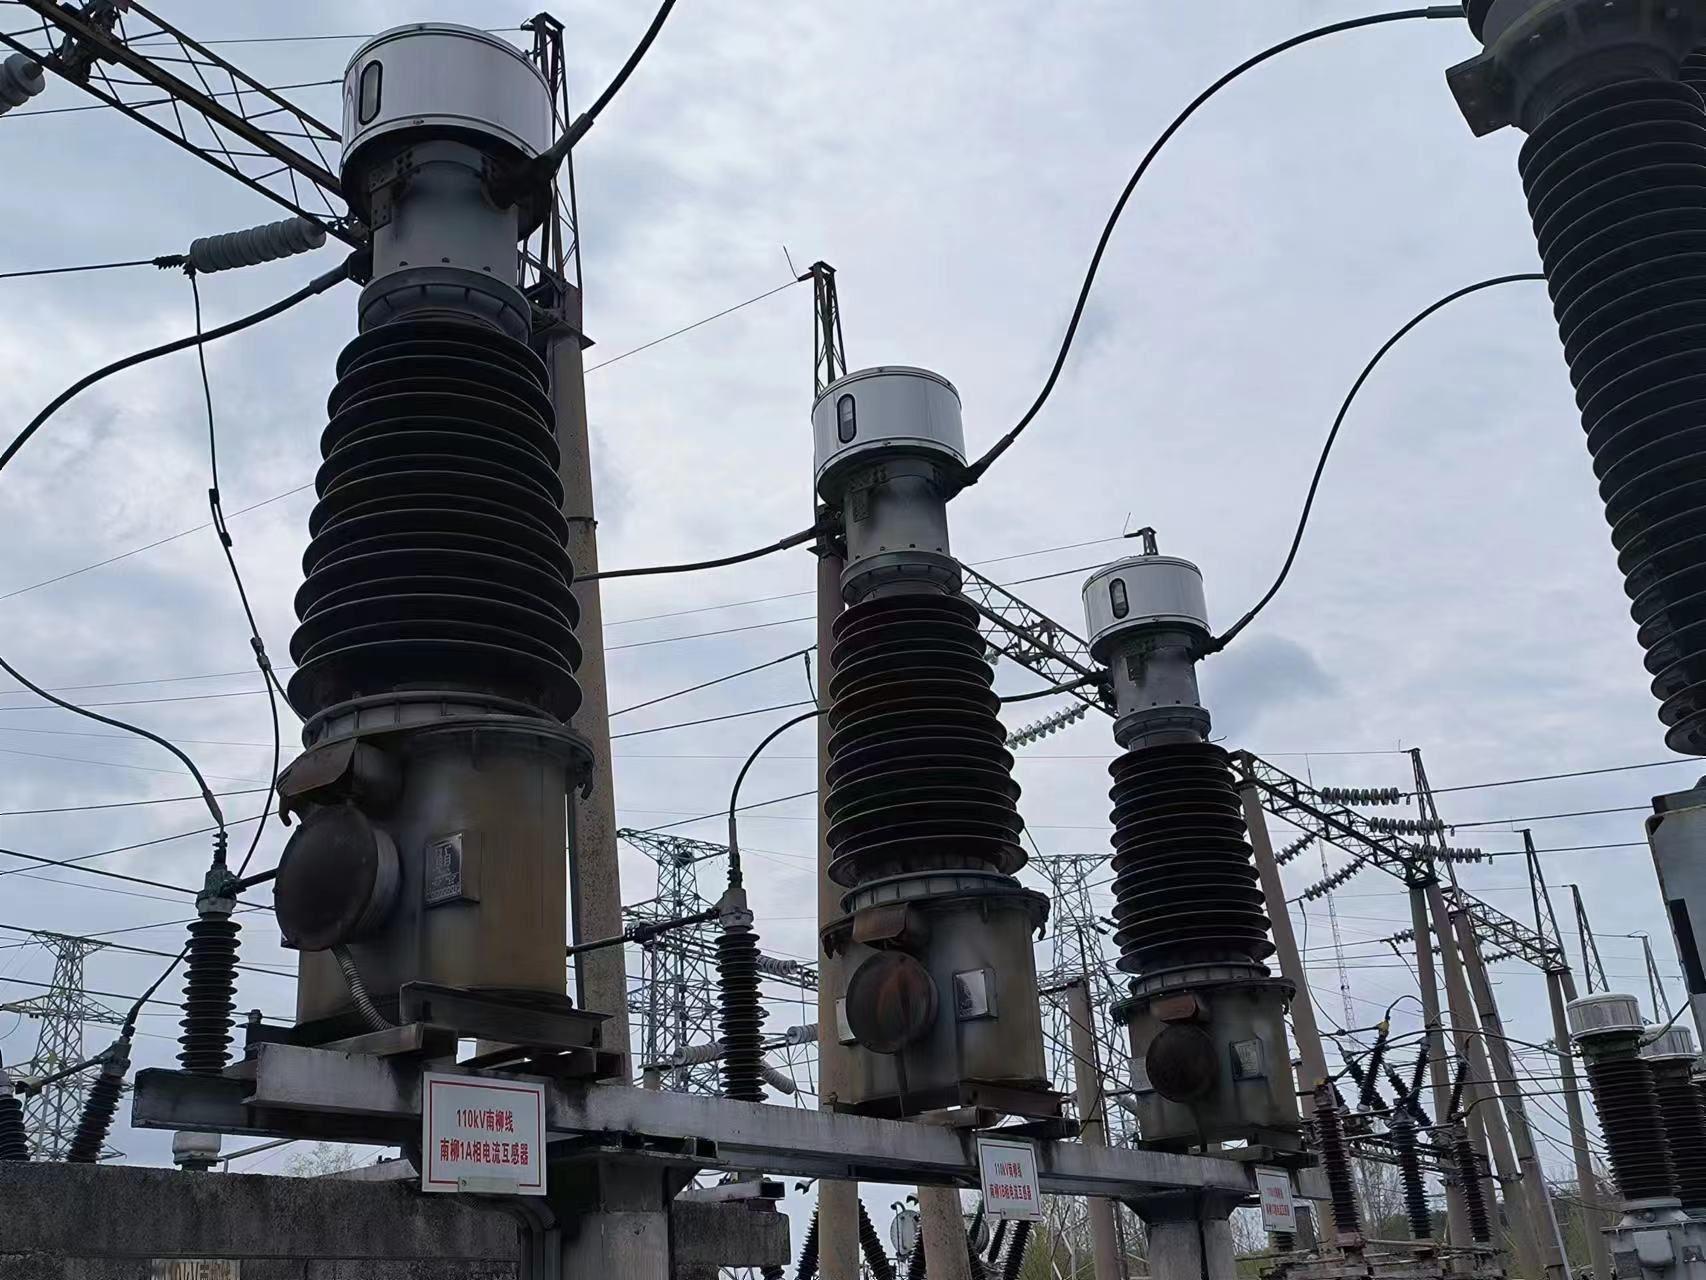Current transformer: (268, 23, 610, 994), (801, 368, 1053, 1094), (1075, 539, 1312, 1142)
